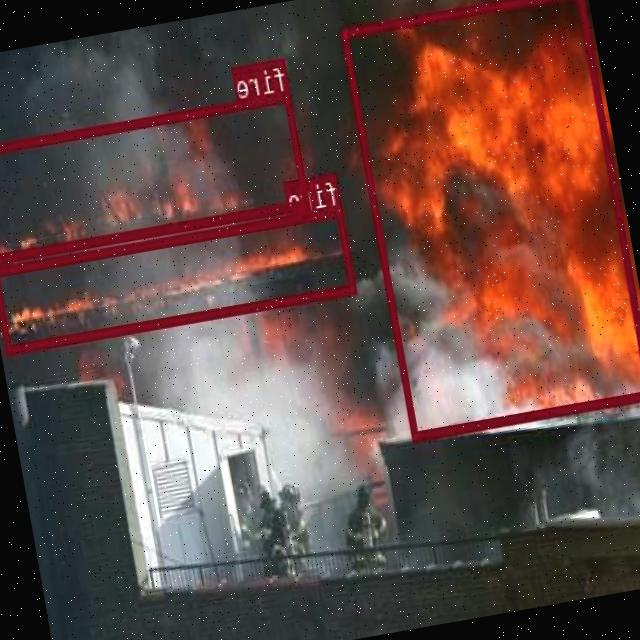fire: (342, 0, 640, 439), (0, 89, 310, 262), (0, 205, 358, 352)
